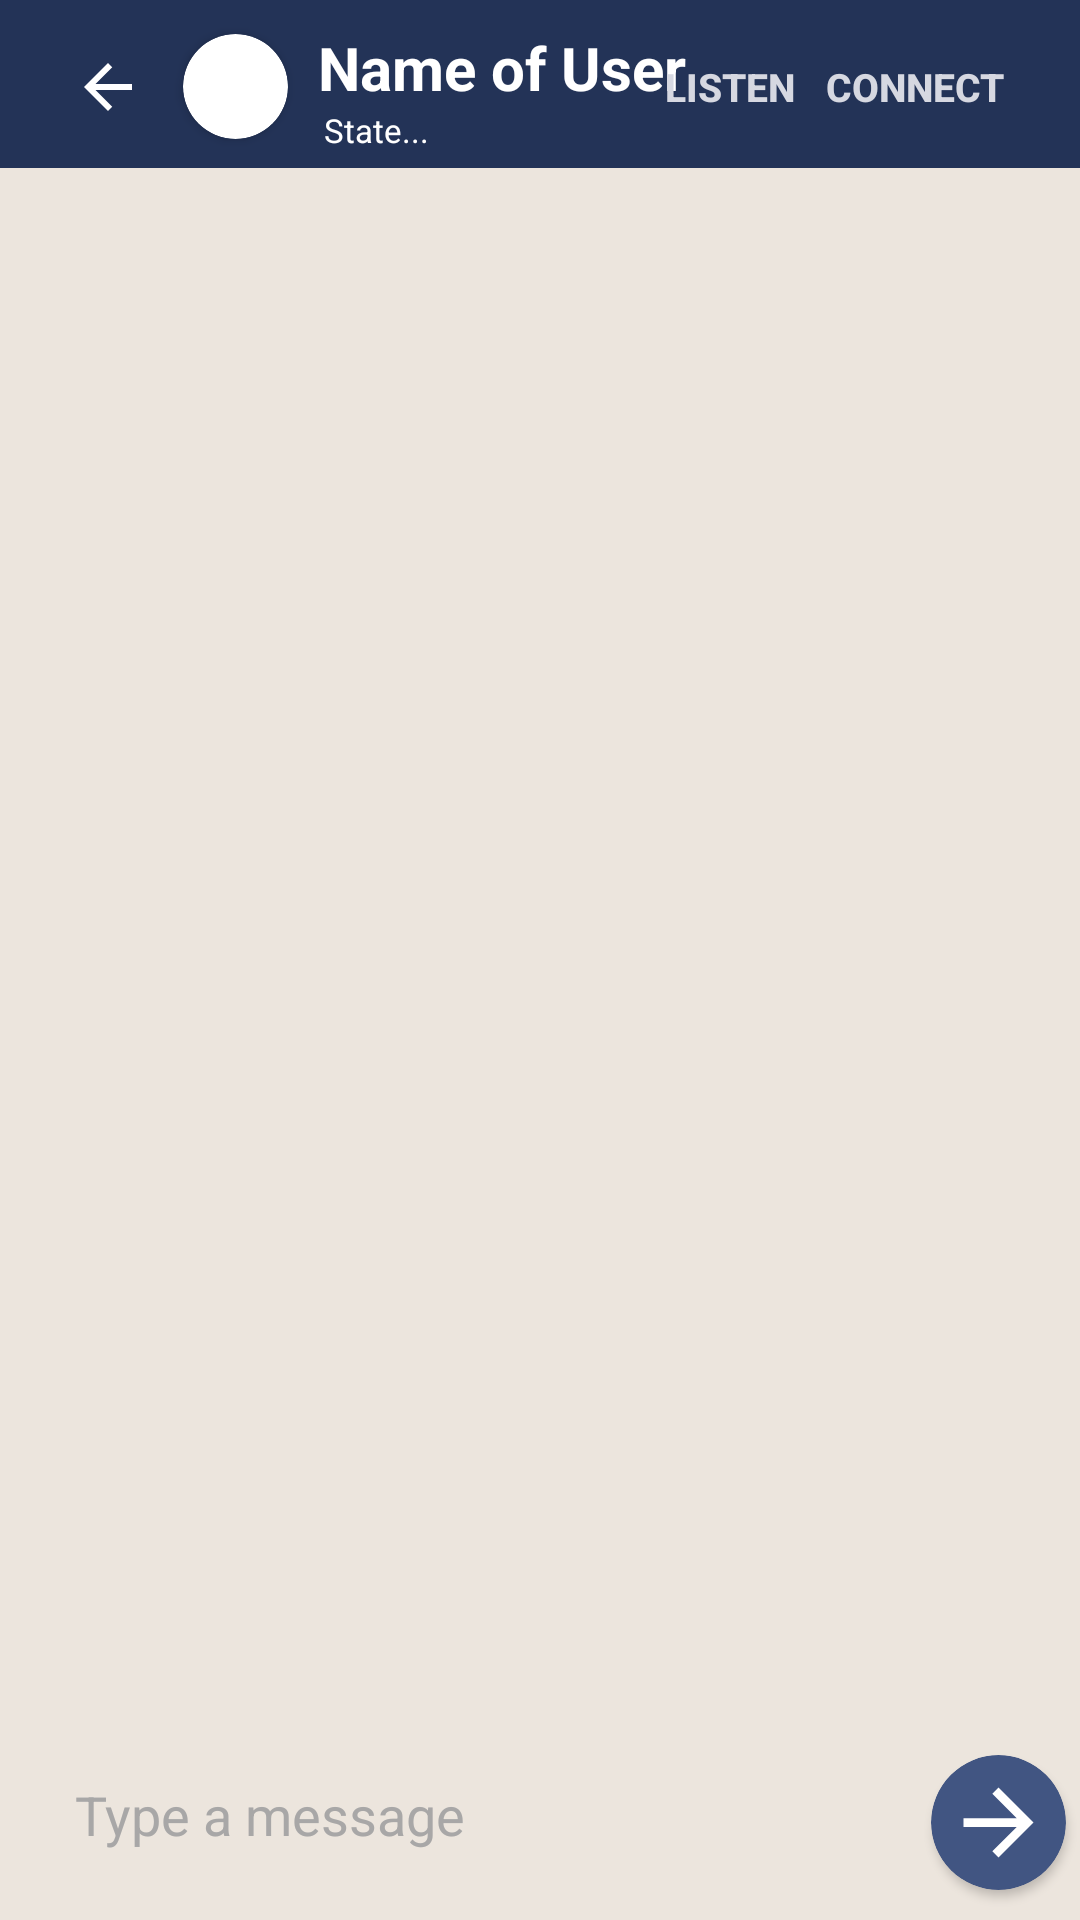

Icon click points for this 1080w x 1920h phone screenshot, format (x=x, y=y):
arrow back: (x=108, y=87)
arrow forward: (x=998, y=1822)
